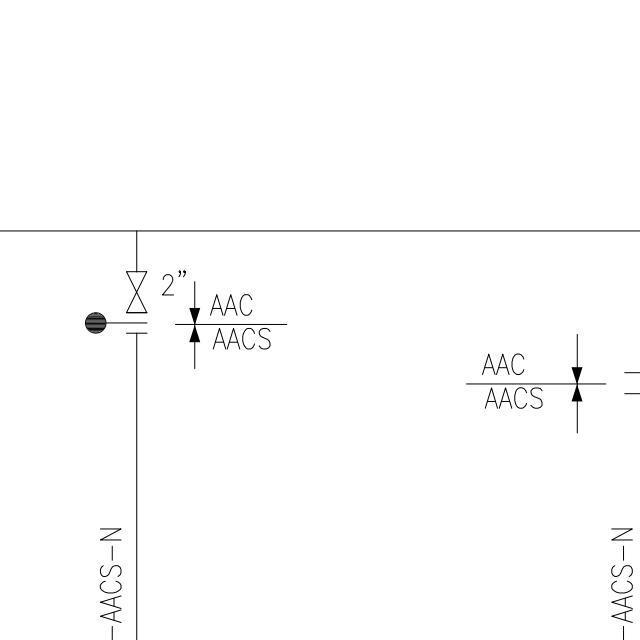GV: (120, 266, 150, 319)
